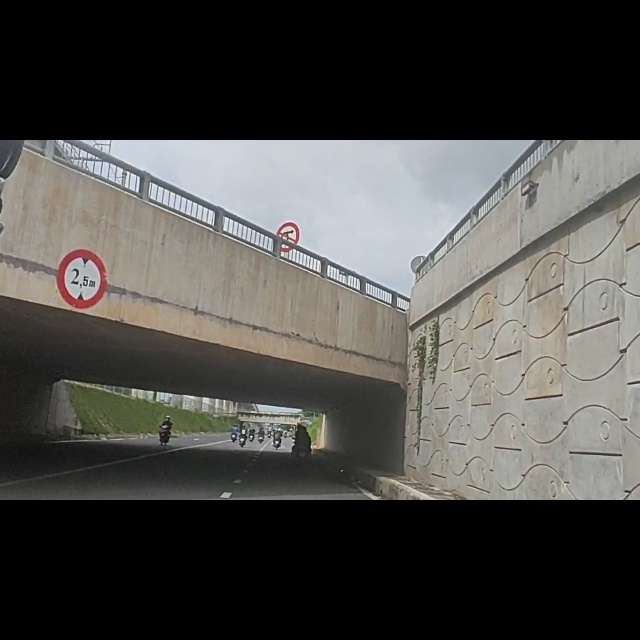bien_cam: (55, 190, 111, 305), (276, 142, 301, 200)
